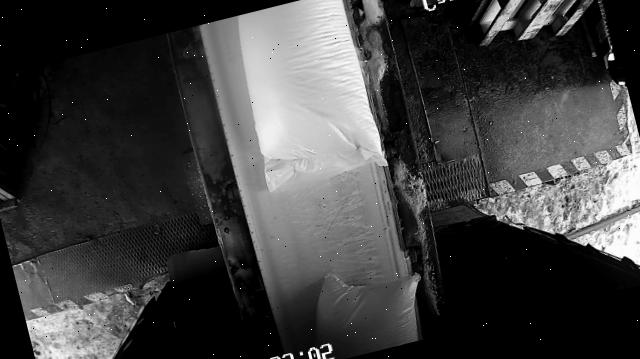bag: (225, 0, 388, 195), (300, 254, 435, 359)
